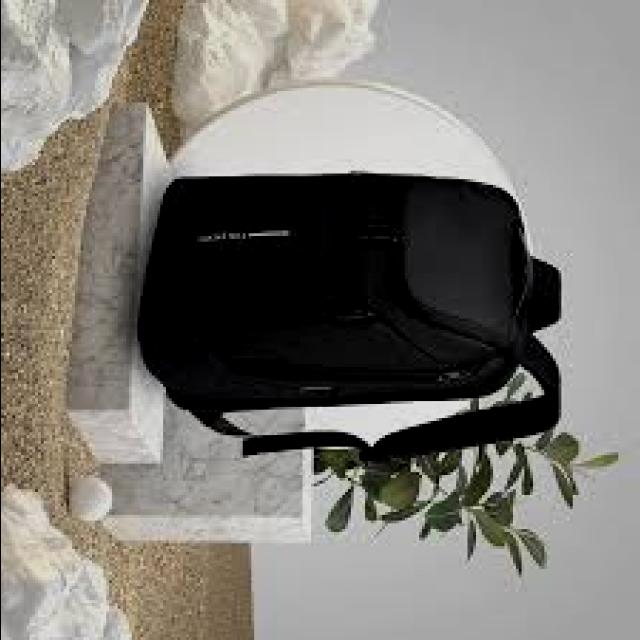backpack: (138, 172, 564, 465)
